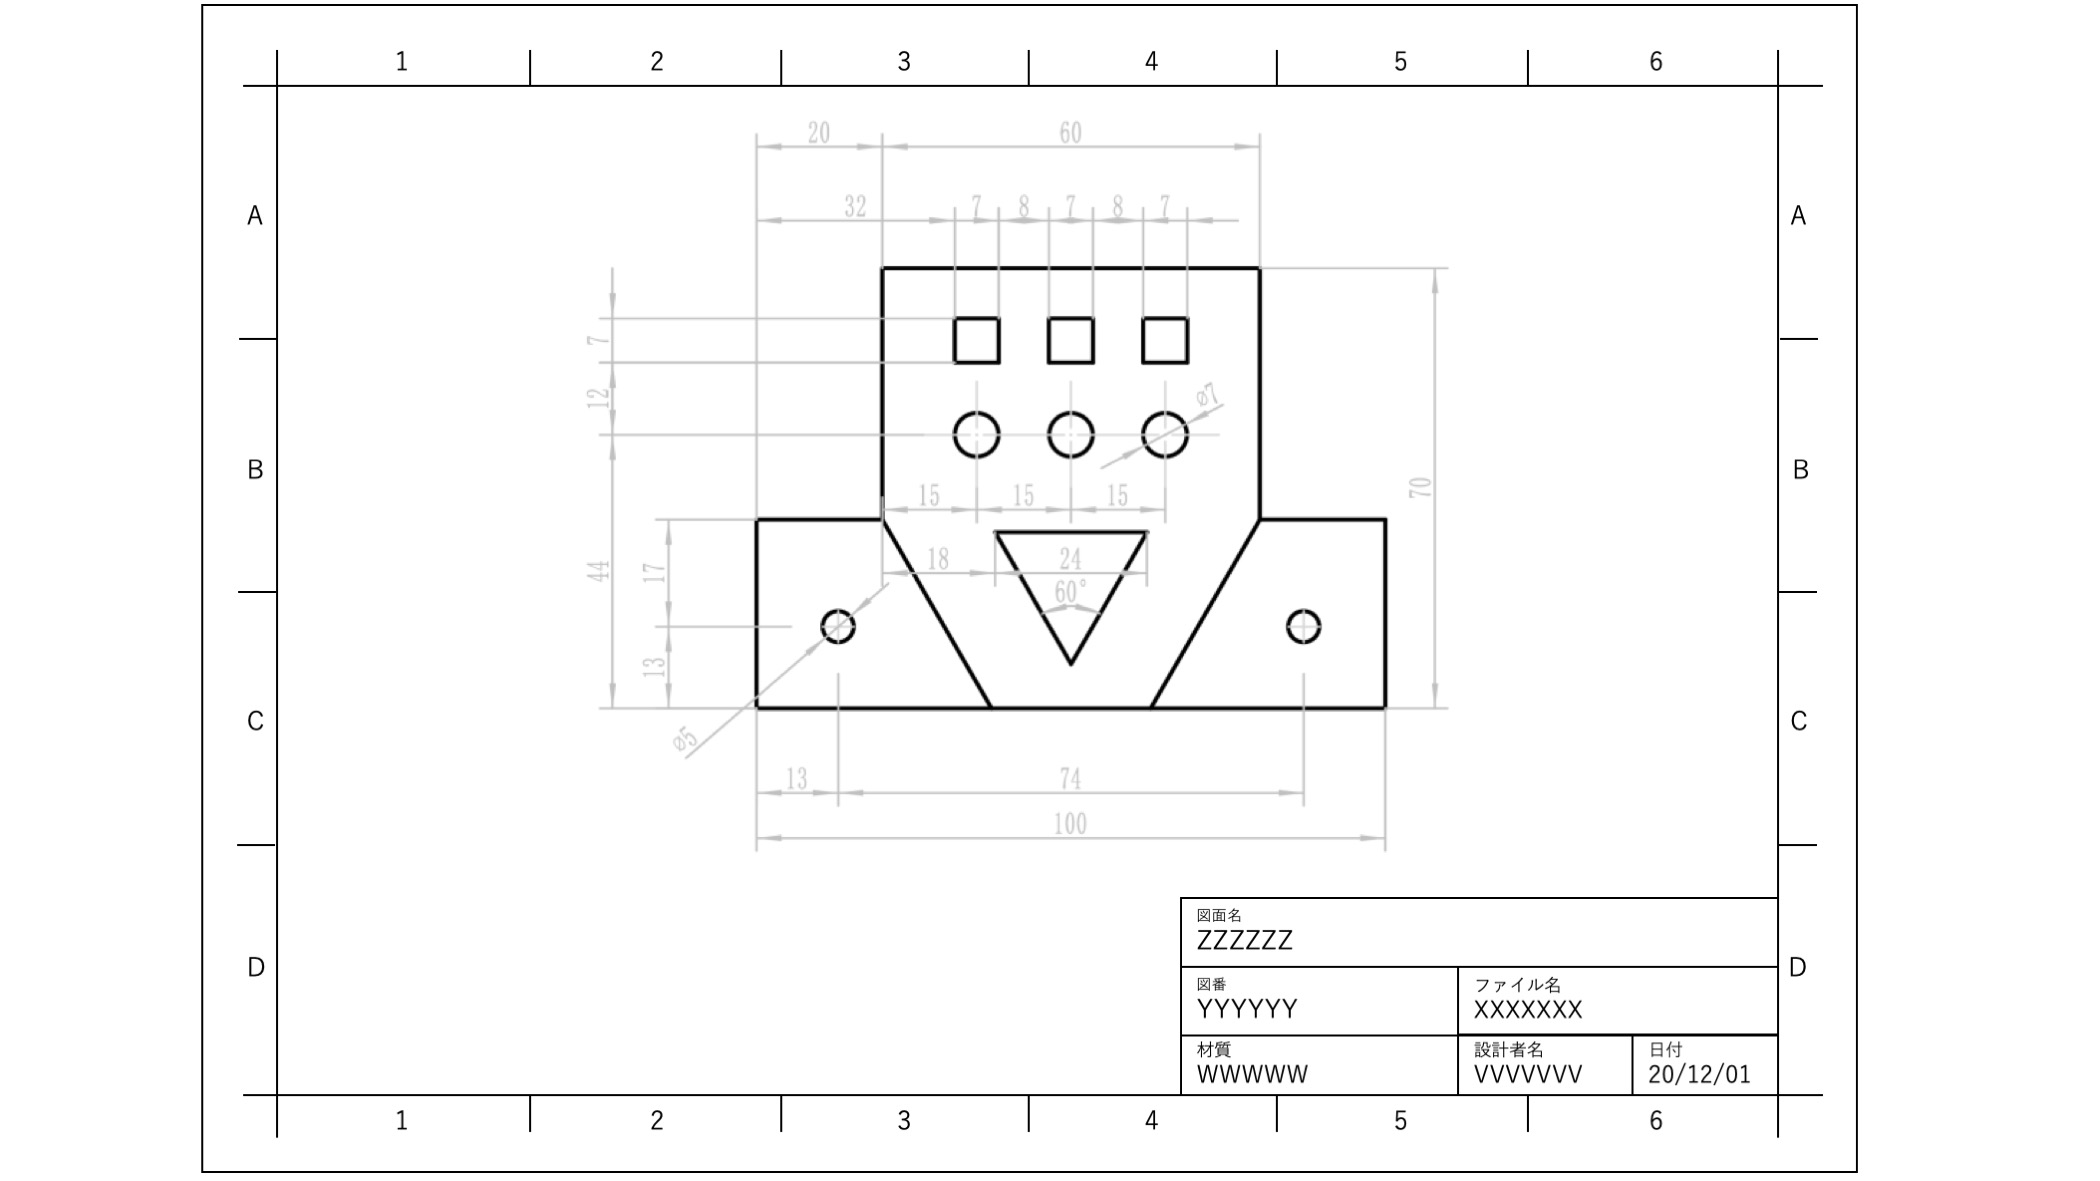circle: (1137, 407, 1193, 464), (948, 404, 1005, 459), (1041, 407, 1096, 463), (1281, 600, 1325, 650), (812, 603, 860, 647)
rectangle: (1038, 306, 1103, 371), (1132, 309, 1194, 371), (946, 309, 1005, 372)
triangle: (984, 523, 1154, 671)
